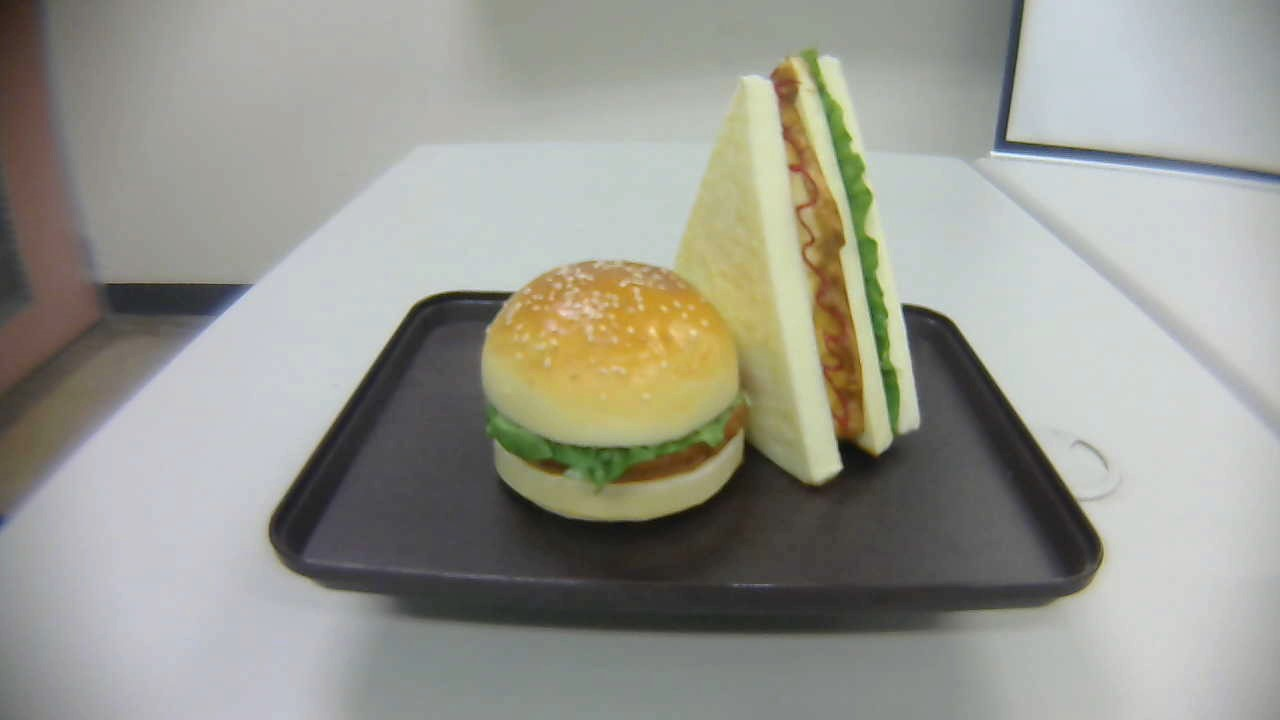hamburger: (482, 257, 746, 524)
sandwich: (675, 52, 923, 488)
